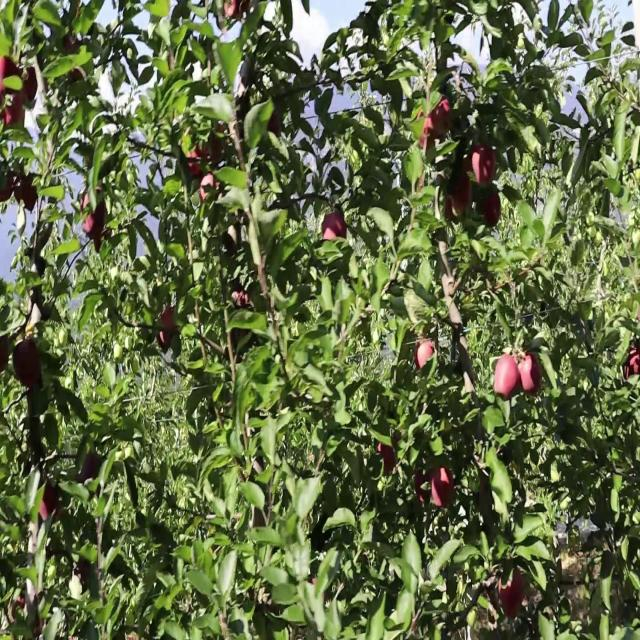apple: (16, 334, 43, 391), (468, 142, 499, 190), (500, 568, 527, 620), (80, 191, 107, 240), (8, 63, 39, 105), (496, 355, 519, 400), (520, 355, 544, 396), (432, 469, 456, 510), (480, 191, 503, 229), (452, 177, 473, 217), (40, 483, 61, 523), (432, 99, 454, 137), (16, 177, 39, 213), (80, 447, 101, 485), (416, 113, 435, 153), (376, 440, 397, 476), (324, 213, 348, 242), (188, 142, 207, 178), (4, 99, 25, 130), (20, 71, 39, 105), (416, 341, 436, 370), (200, 177, 221, 204), (160, 305, 179, 334), (8, 597, 27, 626), (624, 348, 640, 382), (24, 177, 39, 213), (444, 270, 461, 300), (224, 0, 248, 21), (0, 170, 14, 204), (416, 469, 430, 503), (16, 177, 32, 206), (268, 113, 283, 140), (0, 341, 11, 375), (0, 85, 7, 119), (160, 334, 173, 350)
